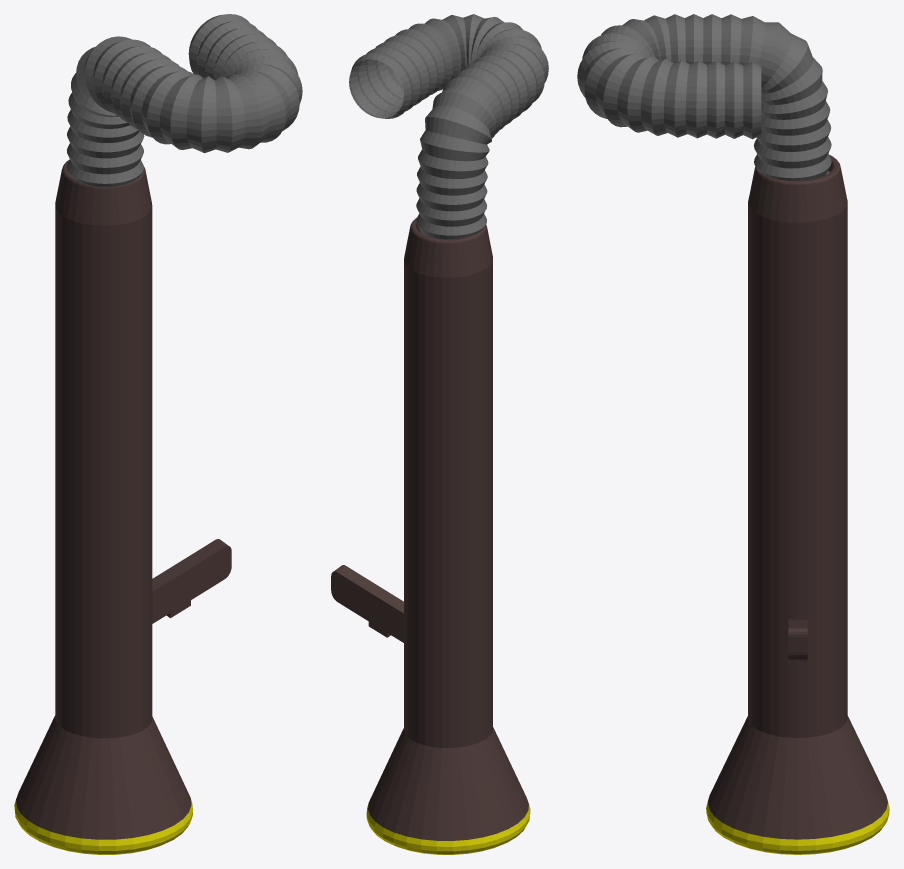
The model's file is VacuumGun.fbx.
3 renders of one model, left to right at view 1: azimuth 30°, elevation 25°; view 2: azimuth 150°, elevation 25°; view 3: azimuth 270°, elevation 25°, orthographic. The views are drawn at different scales.
Visible parts, largest first — view 1: VacuumGun, VacuumPipe; view 2: VacuumGun, VacuumPipe; view 3: VacuumGun, VacuumPipe.
Part boxes in pixels (x1=…): VacuumGun: x1=14, y1=159, x2=231, y2=854; VacuumPipe: x1=66, y1=14, x2=302, y2=186; VacuumGun: x1=331, y1=218, x2=530, y2=854; VacuumPipe: x1=349, y1=14, x2=548, y2=239; VacuumGun: x1=706, y1=154, x2=889, y2=854; VacuumPipe: x1=577, y1=14, x2=831, y2=180.
Bounding box in the file's own units: 47.61 × 176 × 61.93.
